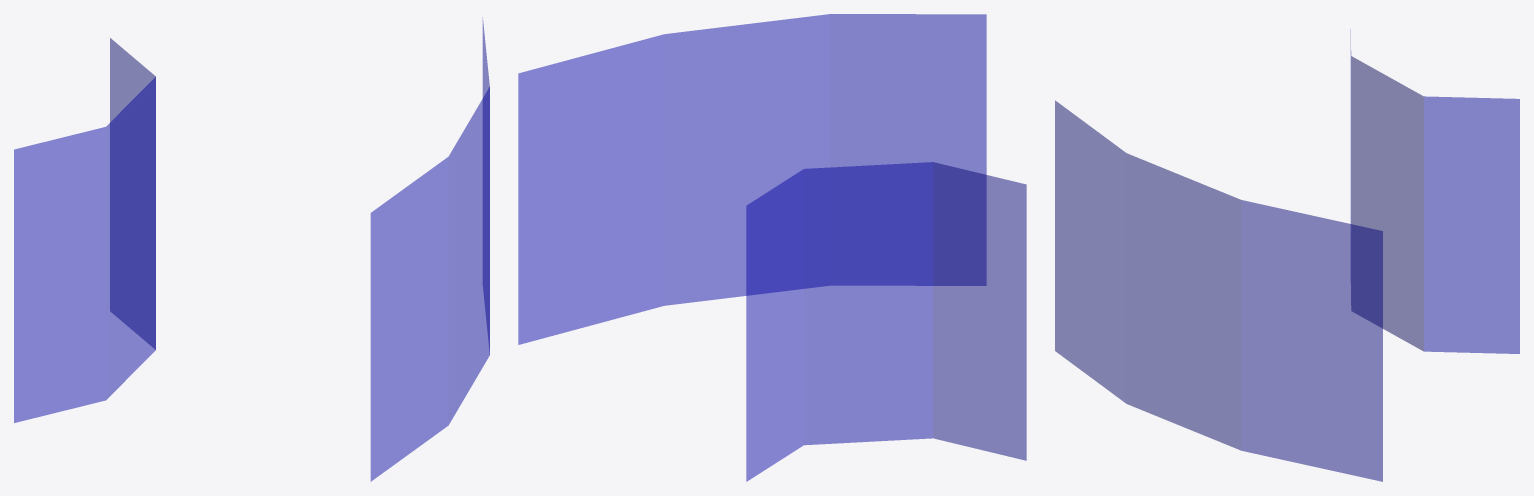
Rendered from track_military_coll_wall_36.fbx.
3 renders of one model, left to right at view 1: azimuth 30°, elevation 25°; view 2: azimuth 150°, elevation 25°; view 3: azimuth 270°, elevation 25°, orthographic. The views are drawn at different scales.
Parts seen in each view (by area): view 1: track_military_coll_wall_36; view 2: track_military_coll_wall_36; view 3: track_military_coll_wall_36.
Boxes of the visible parts, x1,y1,x2,y2 form: track_military_coll_wall_36: (14,17,489,481); track_military_coll_wall_36: (518,14,1026,481); track_military_coll_wall_36: (1055,29,1519,481).
Bounding box in the file's own units: 62.94 × 34.4 × 55.93.
